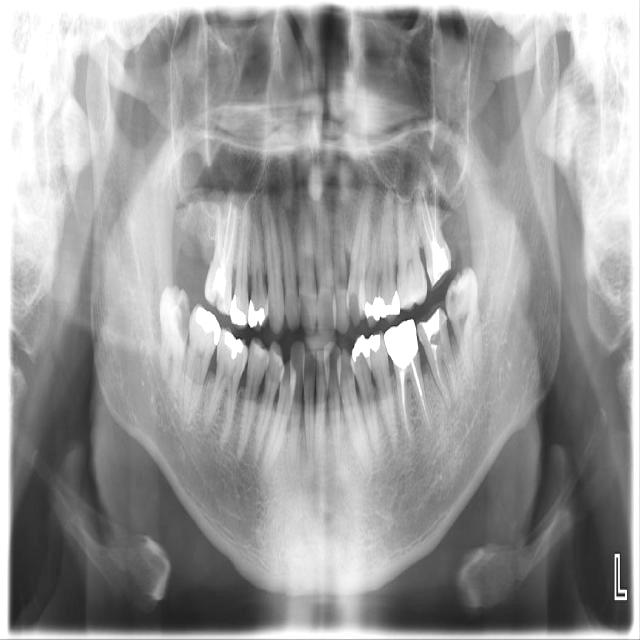Caries: (172, 283, 191, 337), (444, 281, 463, 317)
Crown: (384, 318, 419, 369)
Filling: (204, 263, 233, 316), (416, 307, 448, 350), (426, 240, 452, 290), (195, 308, 220, 345), (229, 296, 249, 327), (224, 336, 247, 358), (379, 293, 400, 317), (246, 301, 265, 327), (351, 336, 370, 361), (364, 296, 379, 321), (365, 335, 380, 351)
Root Canal Treatment: (411, 360, 428, 423), (400, 372, 411, 437), (432, 345, 446, 394), (222, 195, 231, 254), (422, 191, 433, 235), (226, 206, 234, 261), (447, 356, 456, 392), (217, 211, 223, 262), (420, 214, 430, 243), (432, 186, 436, 241)
impacted tooth: (446, 269, 486, 381), (157, 287, 190, 398)
